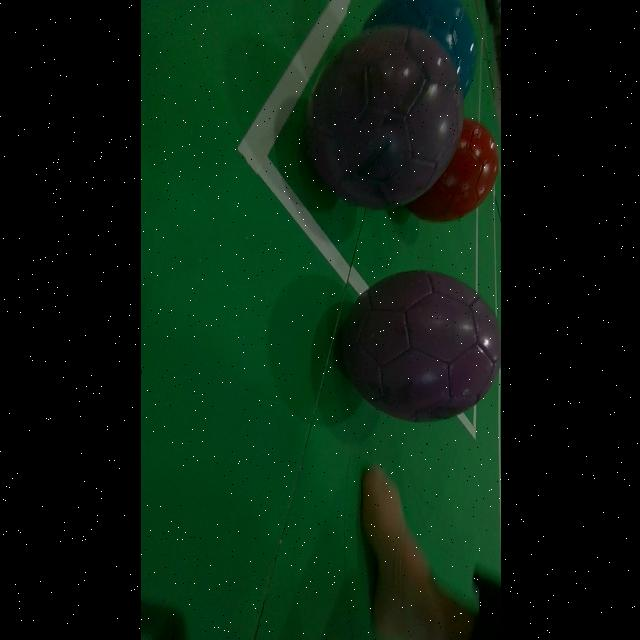B: (364, 0, 476, 96)
P: (305, 25, 462, 209), (342, 272, 500, 421)
R: (405, 118, 497, 223)
